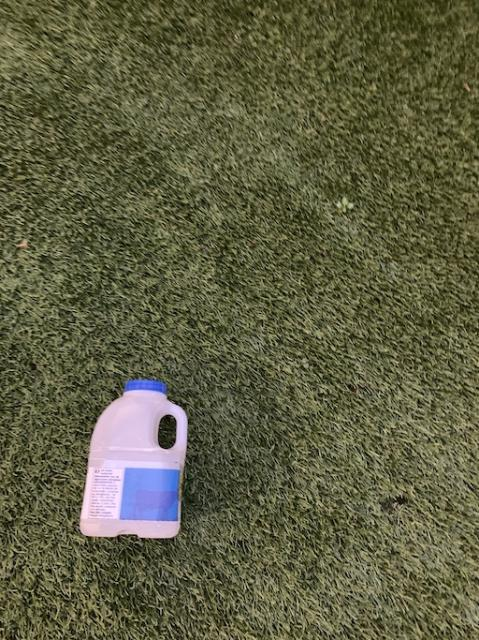plastic: (80, 380, 186, 536)
